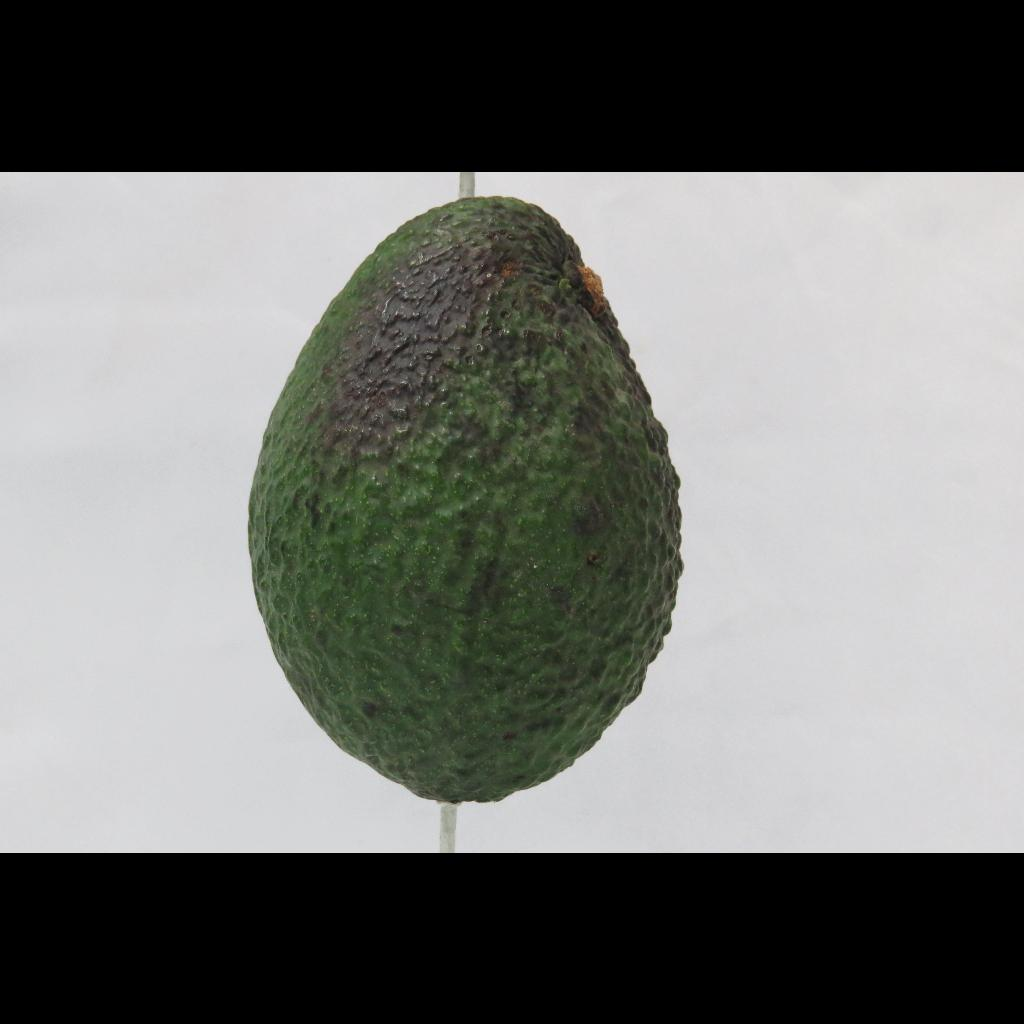Healthy: (205, 172, 709, 832)
